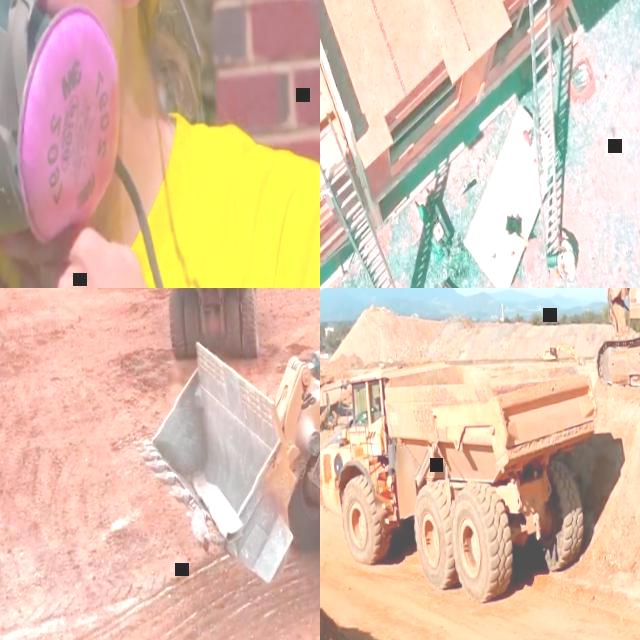helmet: (562, 250, 576, 268)
machinery: (320, 352, 609, 611), (140, 288, 320, 631), (154, 288, 267, 372), (543, 342, 582, 363)
mask: (0, 0, 131, 287)
no_vest: (0, 104, 310, 288), (342, 374, 344, 381)
person: (0, 0, 320, 288), (556, 231, 576, 284), (372, 388, 382, 416), (340, 372, 344, 386)
